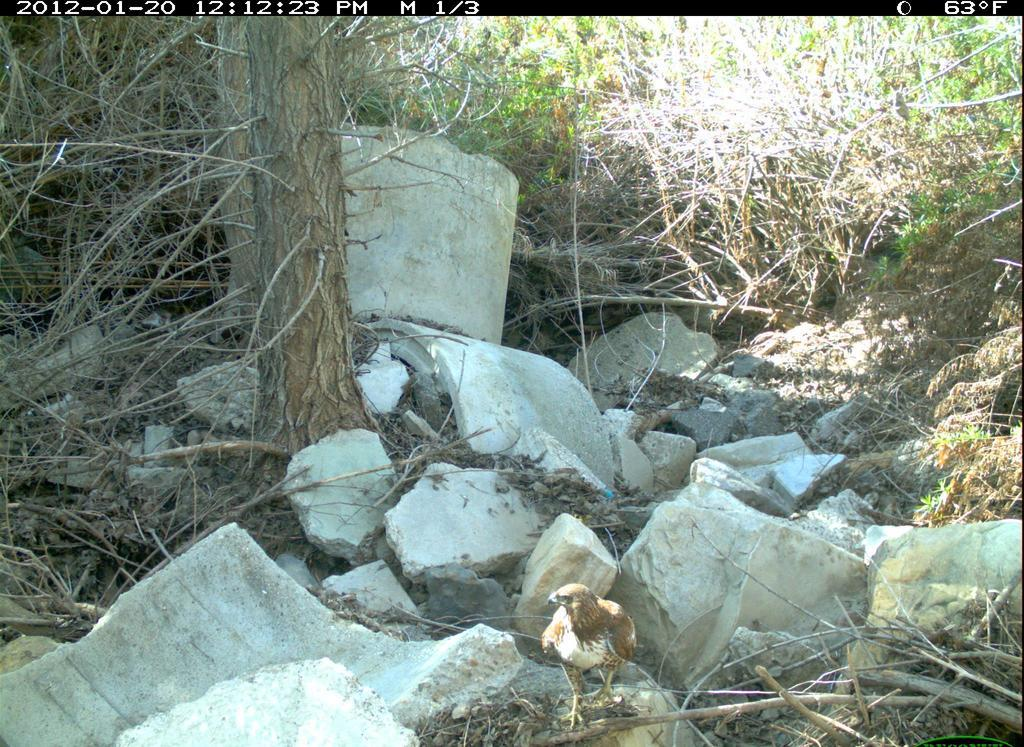bird: (541, 575, 647, 738)
